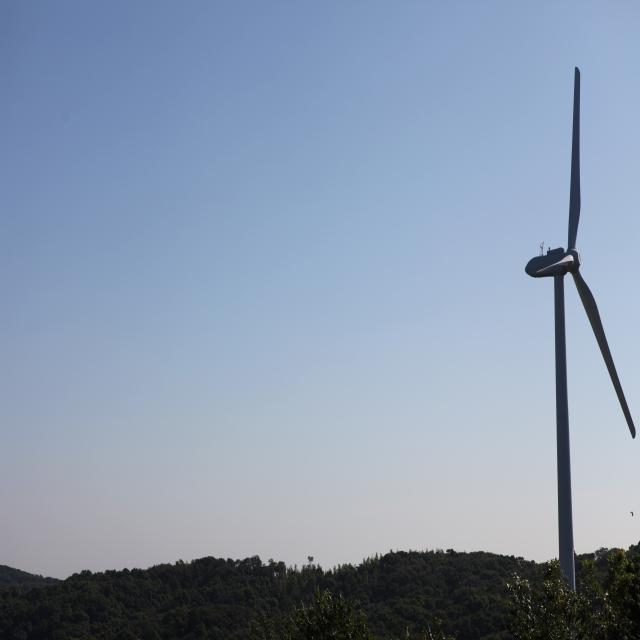bird: (629, 508, 636, 518)
